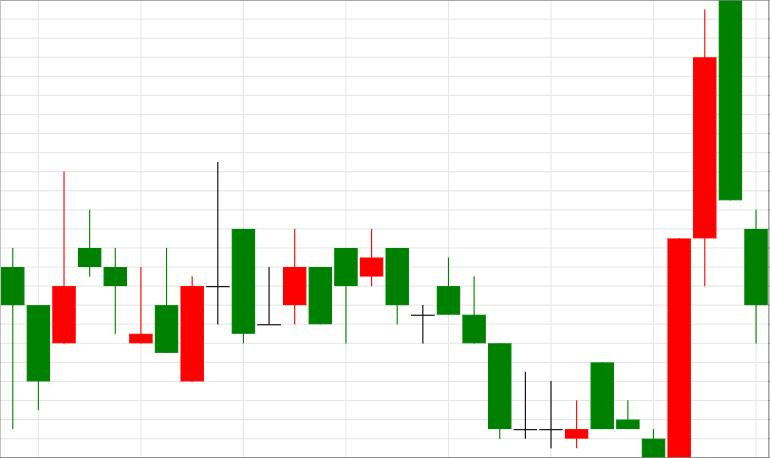bullish_engulfing_rise: (386, 239, 691, 458)
